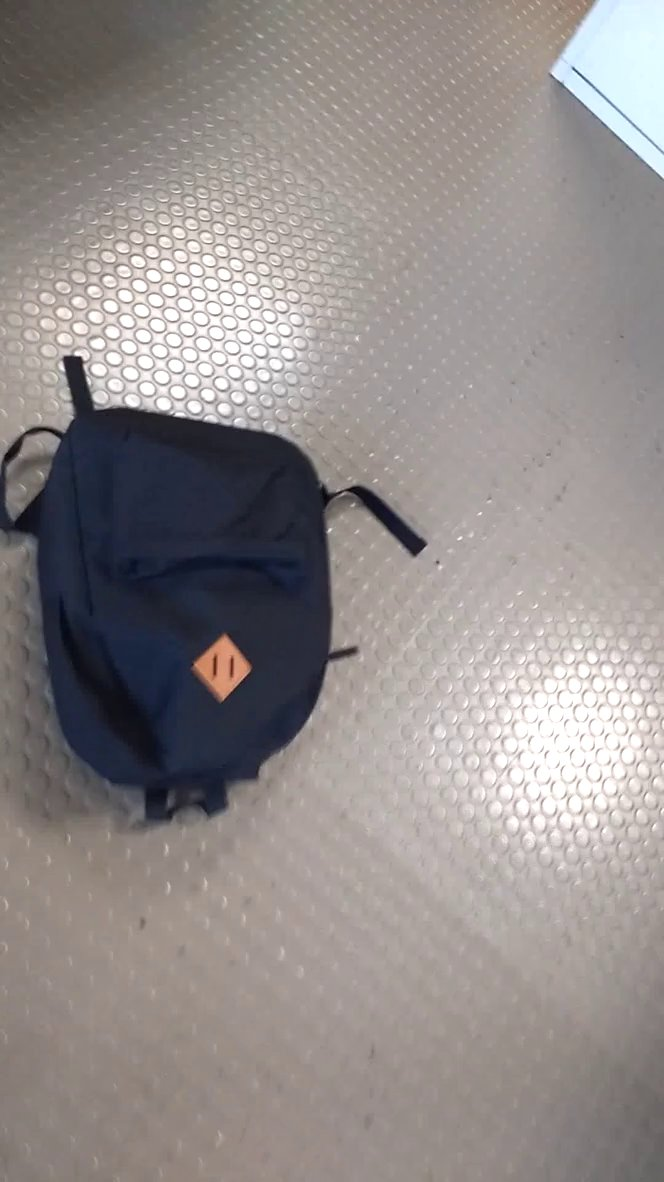bag: (1, 309, 436, 841)
